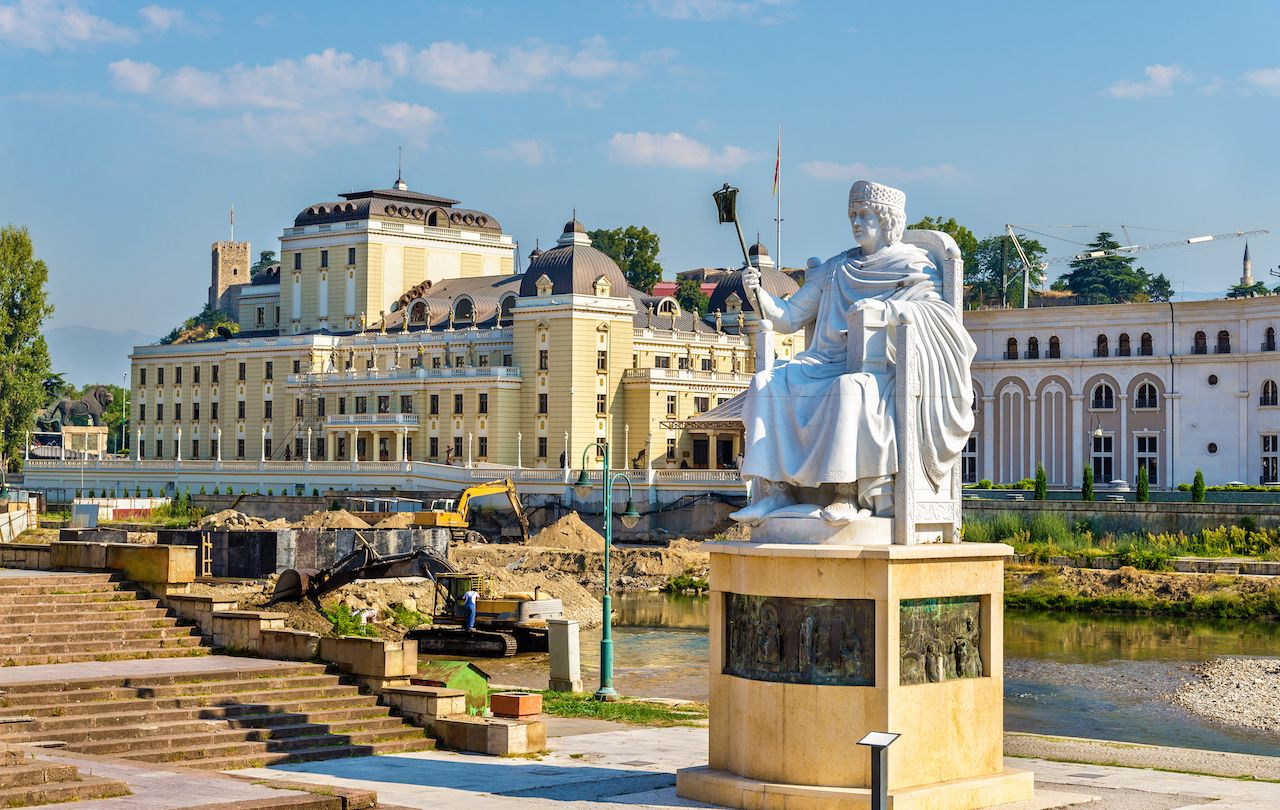person-like: (727, 170, 977, 541)
